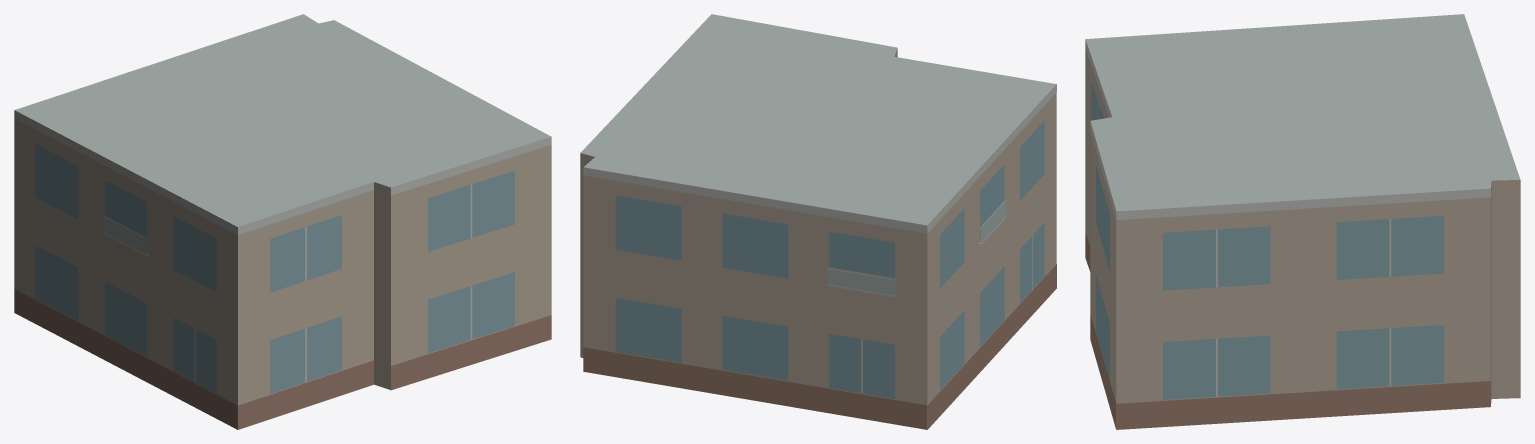
Rendered from survey-upis-32527434.glb.
3 renders of one model, left to right at view 1: azimuth 30°, elevation 25°; view 2: azimuth 150°, elevation 25°; view 3: azimuth 270°, elevation 25°, orthographic. The views are drawn at different scales.
Parts seen in each view (by area): view 1: survey-upis-32527434.tmp; view 2: survey-upis-32527434.tmp; view 3: survey-upis-32527434.tmp.
Boxes of the visible parts, bbox=[...] form: survey-upis-32527434.tmp: bbox=[14, 14, 551, 429]; survey-upis-32527434.tmp: bbox=[580, 14, 1056, 429]; survey-upis-32527434.tmp: bbox=[1085, 14, 1520, 429].
Bounding box in the file's own units: 11.84 × 6.1 × 11.03.
